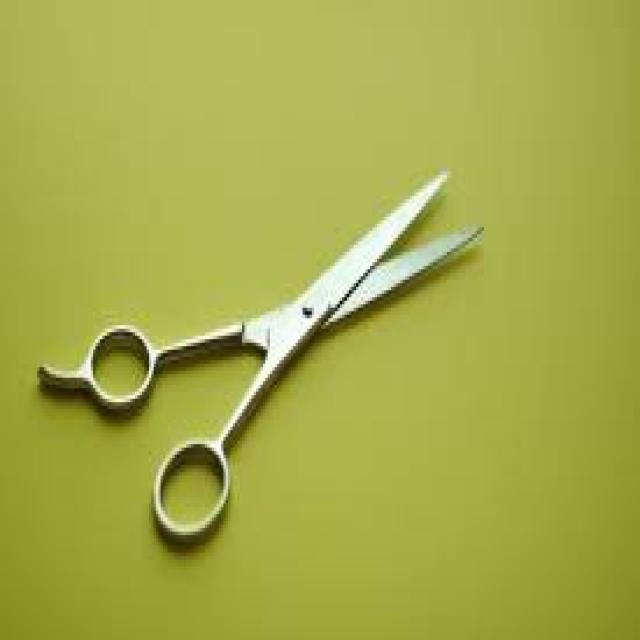scissor: (37, 168, 484, 549)
